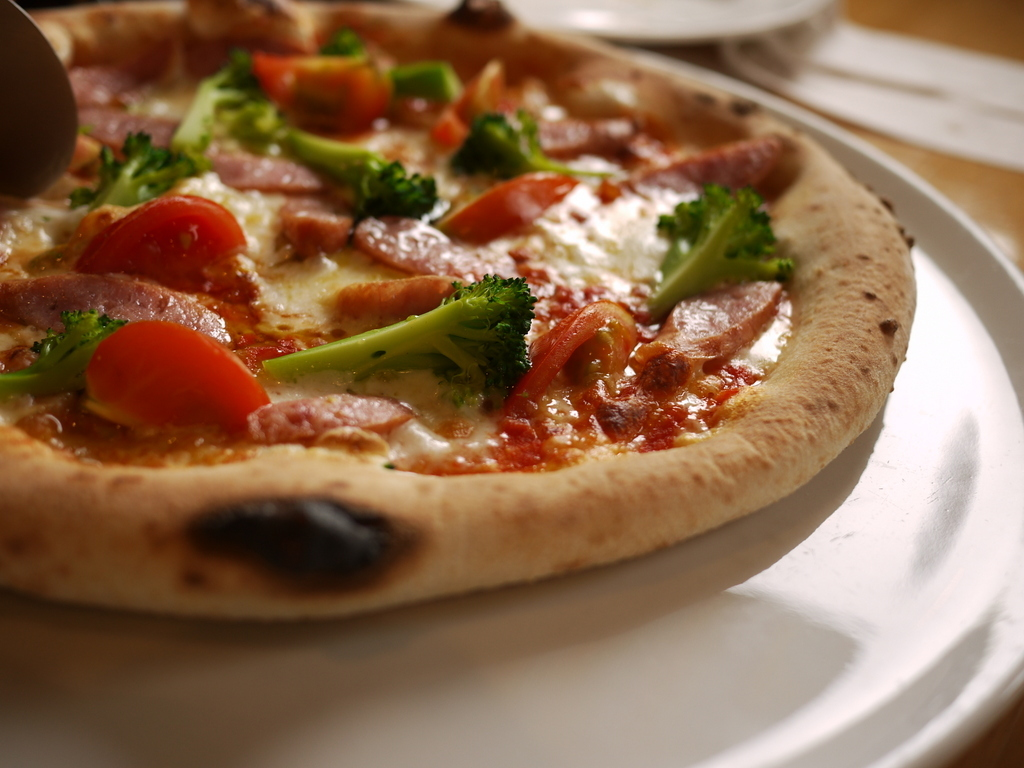Pizza: (0, 0, 949, 659)
